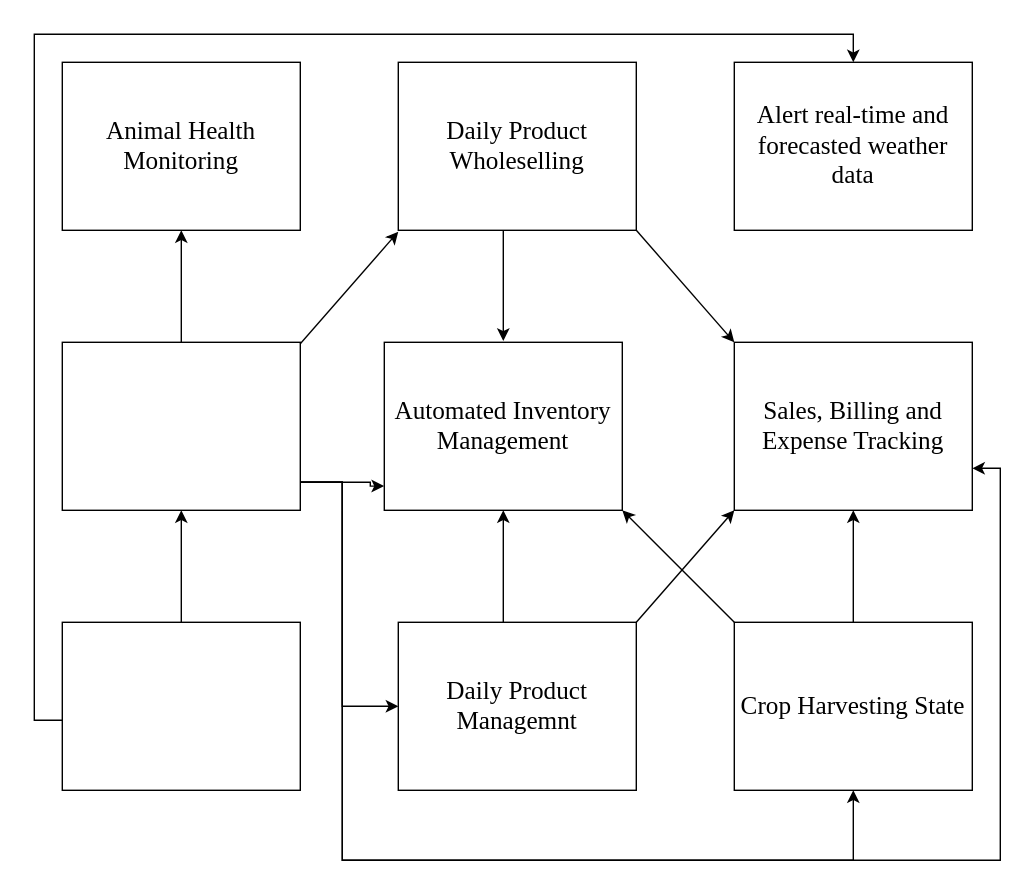
Image size: 1036x896. Some labels were removed from this diagram. The shapes that lost their labels are listed below. From the top down, each one's box as (x1, y1, x2, y2) in pixels, then its label:
(61, 341, 300, 510): Log In
(61, 621, 300, 790): User Registration
